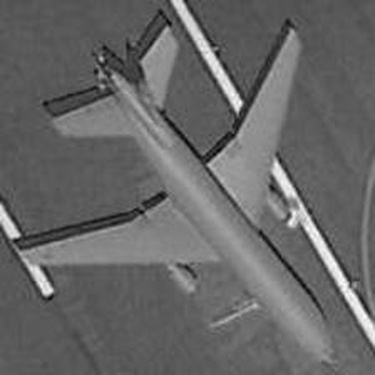airplane: (12, 16, 346, 369)
